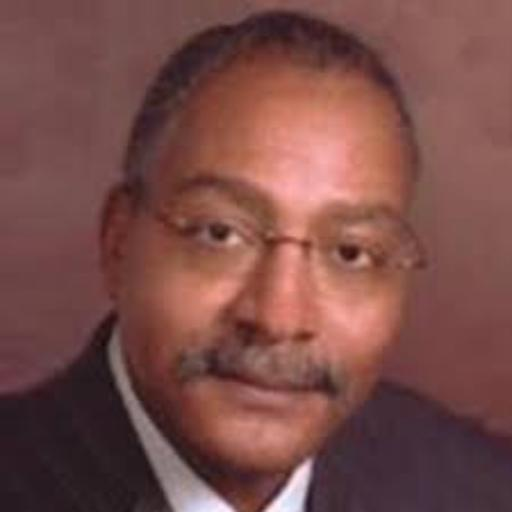left_eye: (323, 244, 389, 276)
left_lip_corner: (307, 379, 336, 403)
right_eye: (179, 221, 254, 252)
right_lip_corner: (209, 366, 233, 387)
